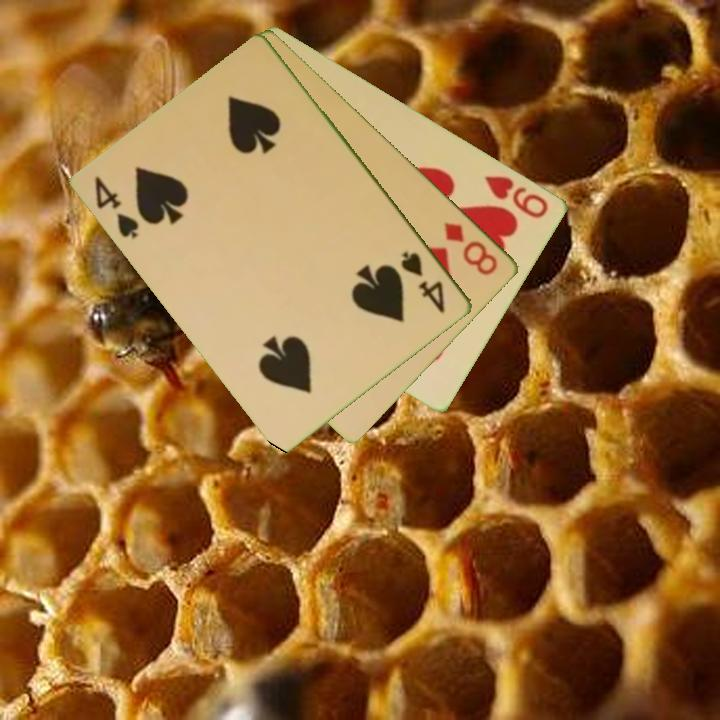4s: (91, 172, 143, 242), (398, 248, 449, 317)
8d: (440, 218, 501, 279)
9h: (482, 171, 552, 222)
